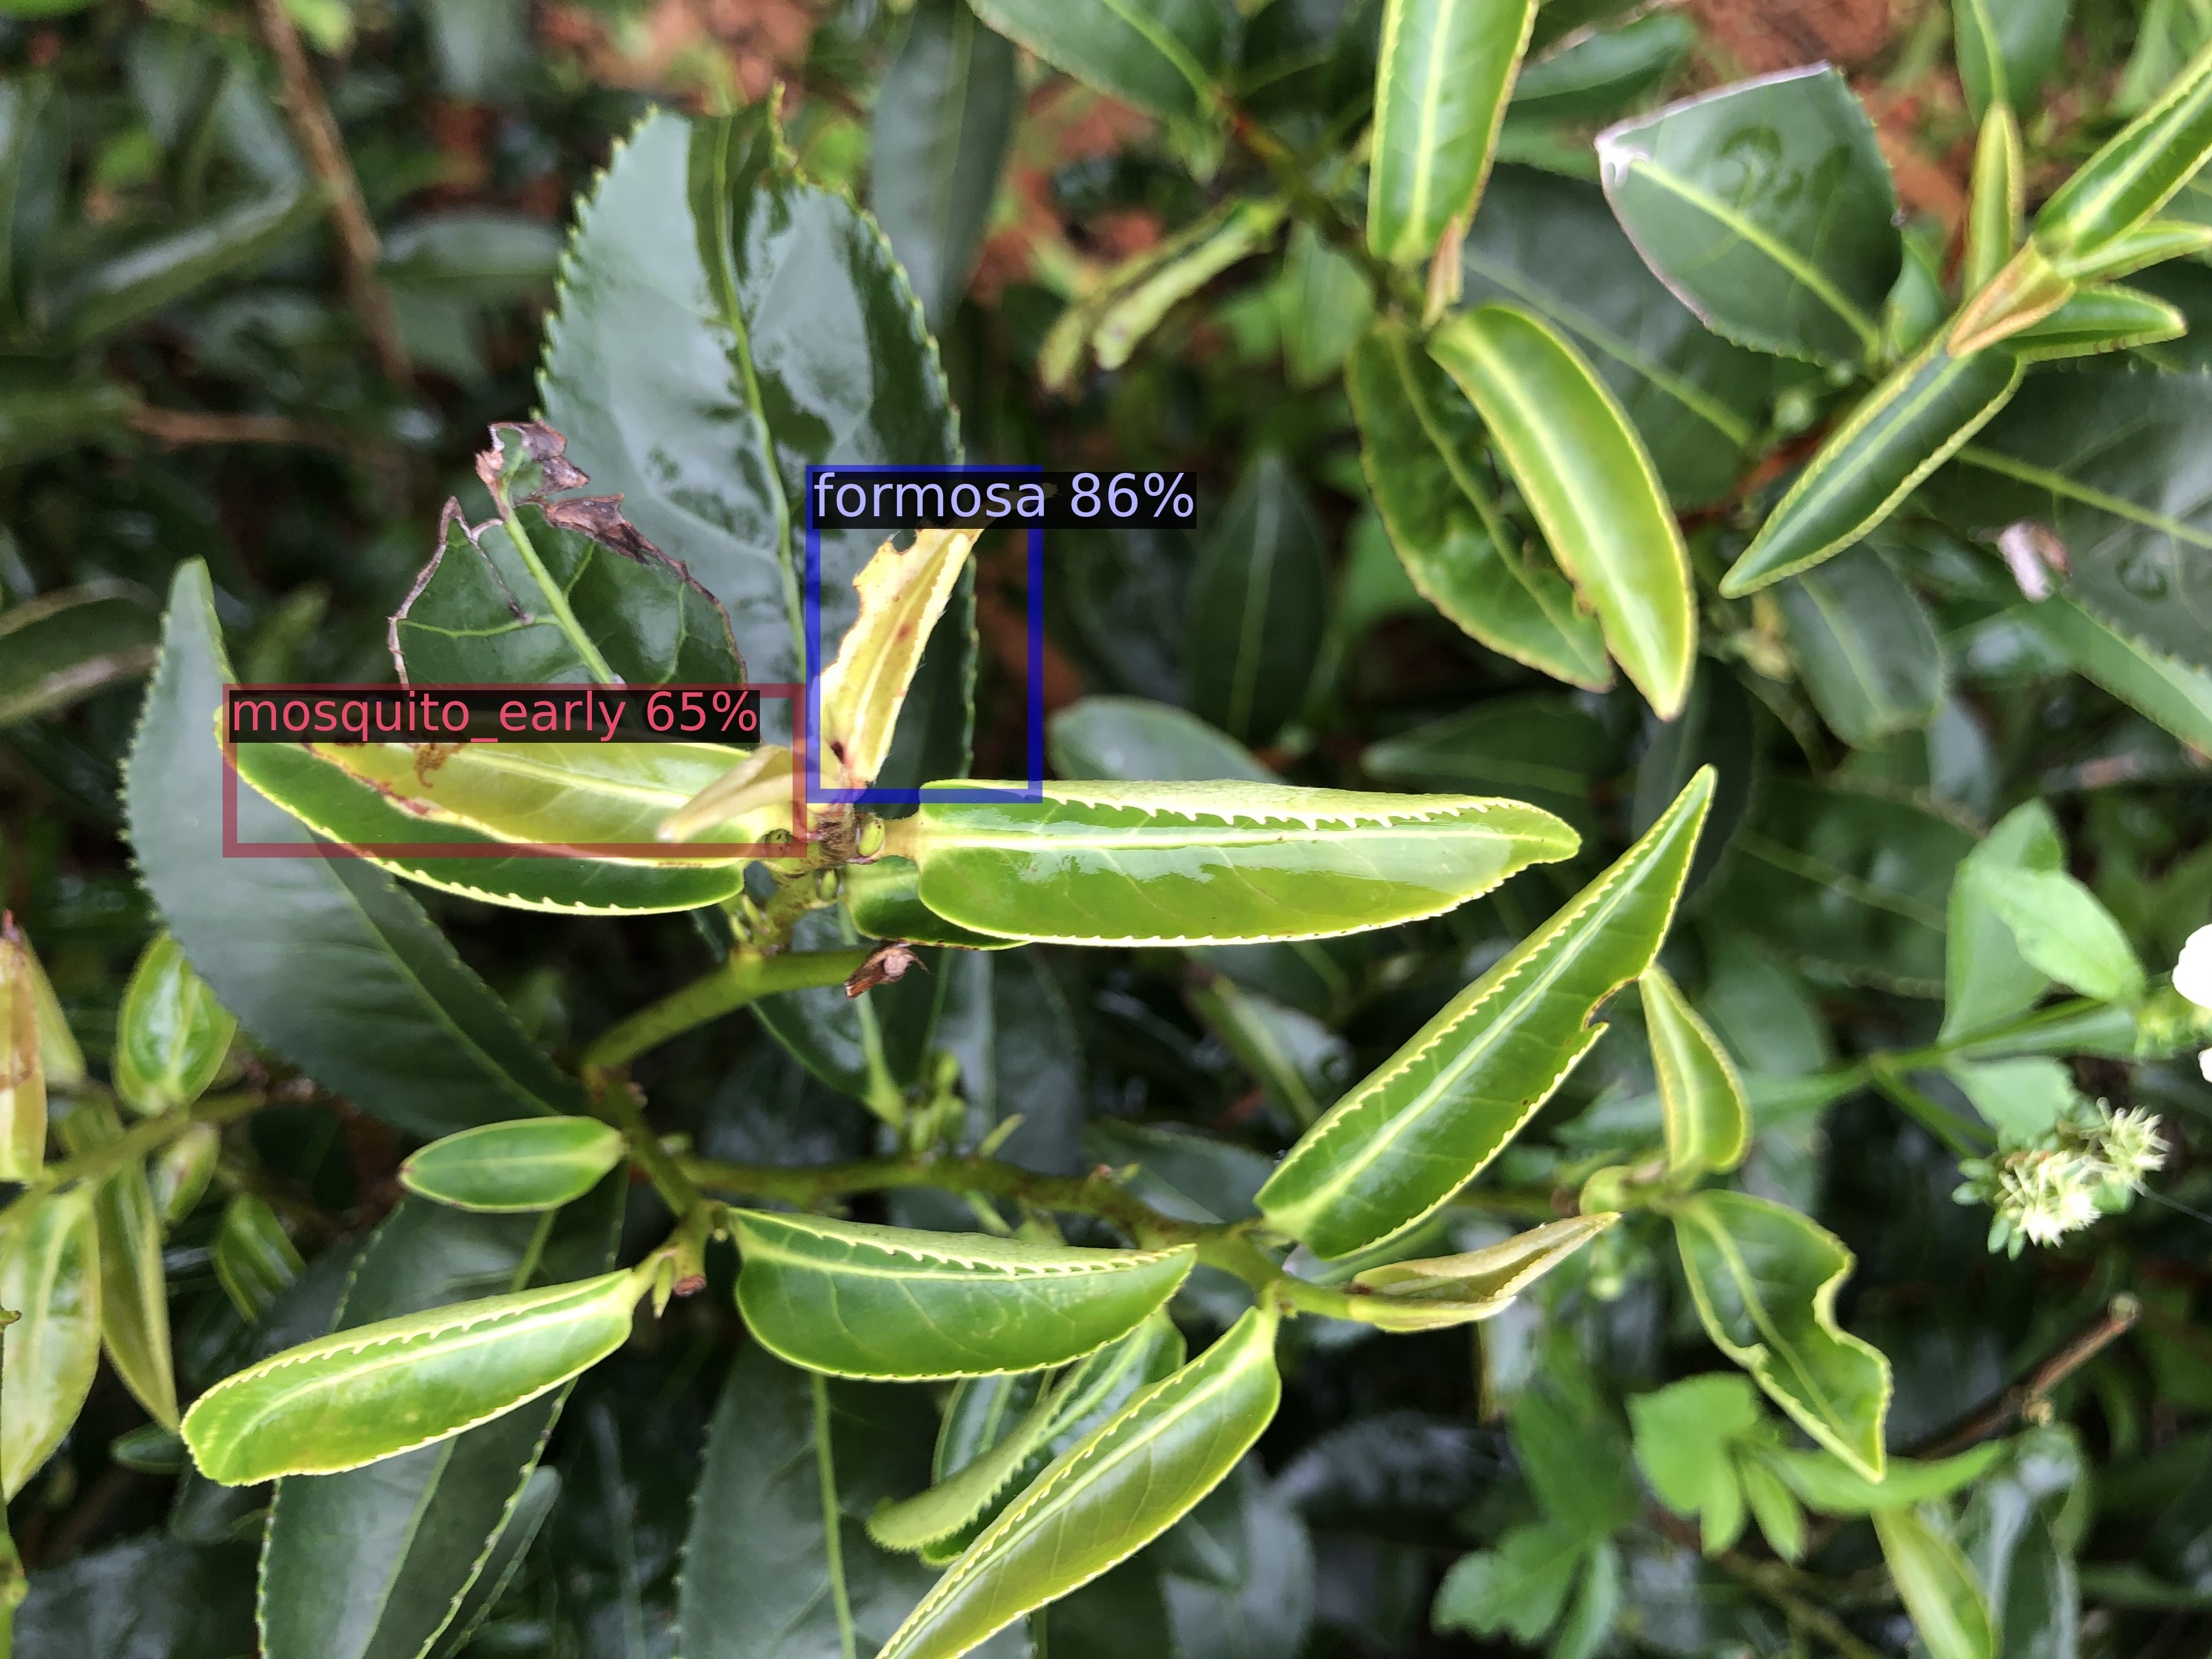formosa: (812, 472, 1035, 796)
mosquito_early: (230, 690, 799, 850)
